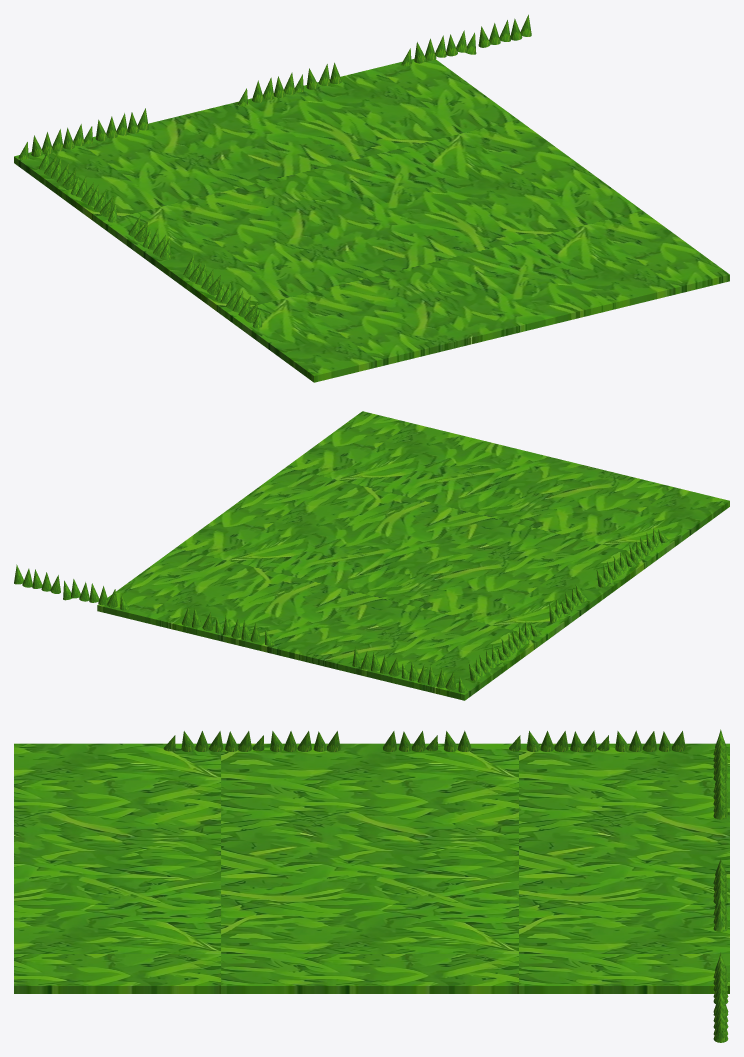
File: PISO PARQUE 2.fbx
3 views of the same model, one above another, from view 1: azimuth 30°, elevation 25°; view 2: azimuth 150°, elevation 25°; view 3: azimuth 270°, elevation 25° (orthographic). The views are drawn at different scales.
Visible parts, largest first — view 1: PARTO PARQUE; view 2: PARTO PARQUE; view 3: PARTO PARQUE.
Part boxes in pixels (x1,y1,x2,y2): PARTO PARQUE: (14, 14, 729, 382); PARTO PARQUE: (14, 411, 729, 700); PARTO PARQUE: (14, 729, 729, 1042).
Bounding box in the file's own units: 5087 × 257 × 5152.
